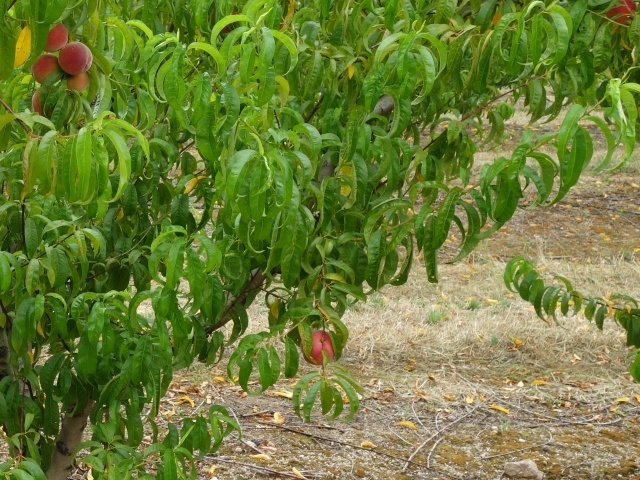peach: (298, 328, 341, 368), (55, 40, 96, 79), (40, 15, 72, 59), (59, 64, 97, 98), (30, 52, 66, 87), (24, 82, 51, 121), (600, 1, 639, 24)
